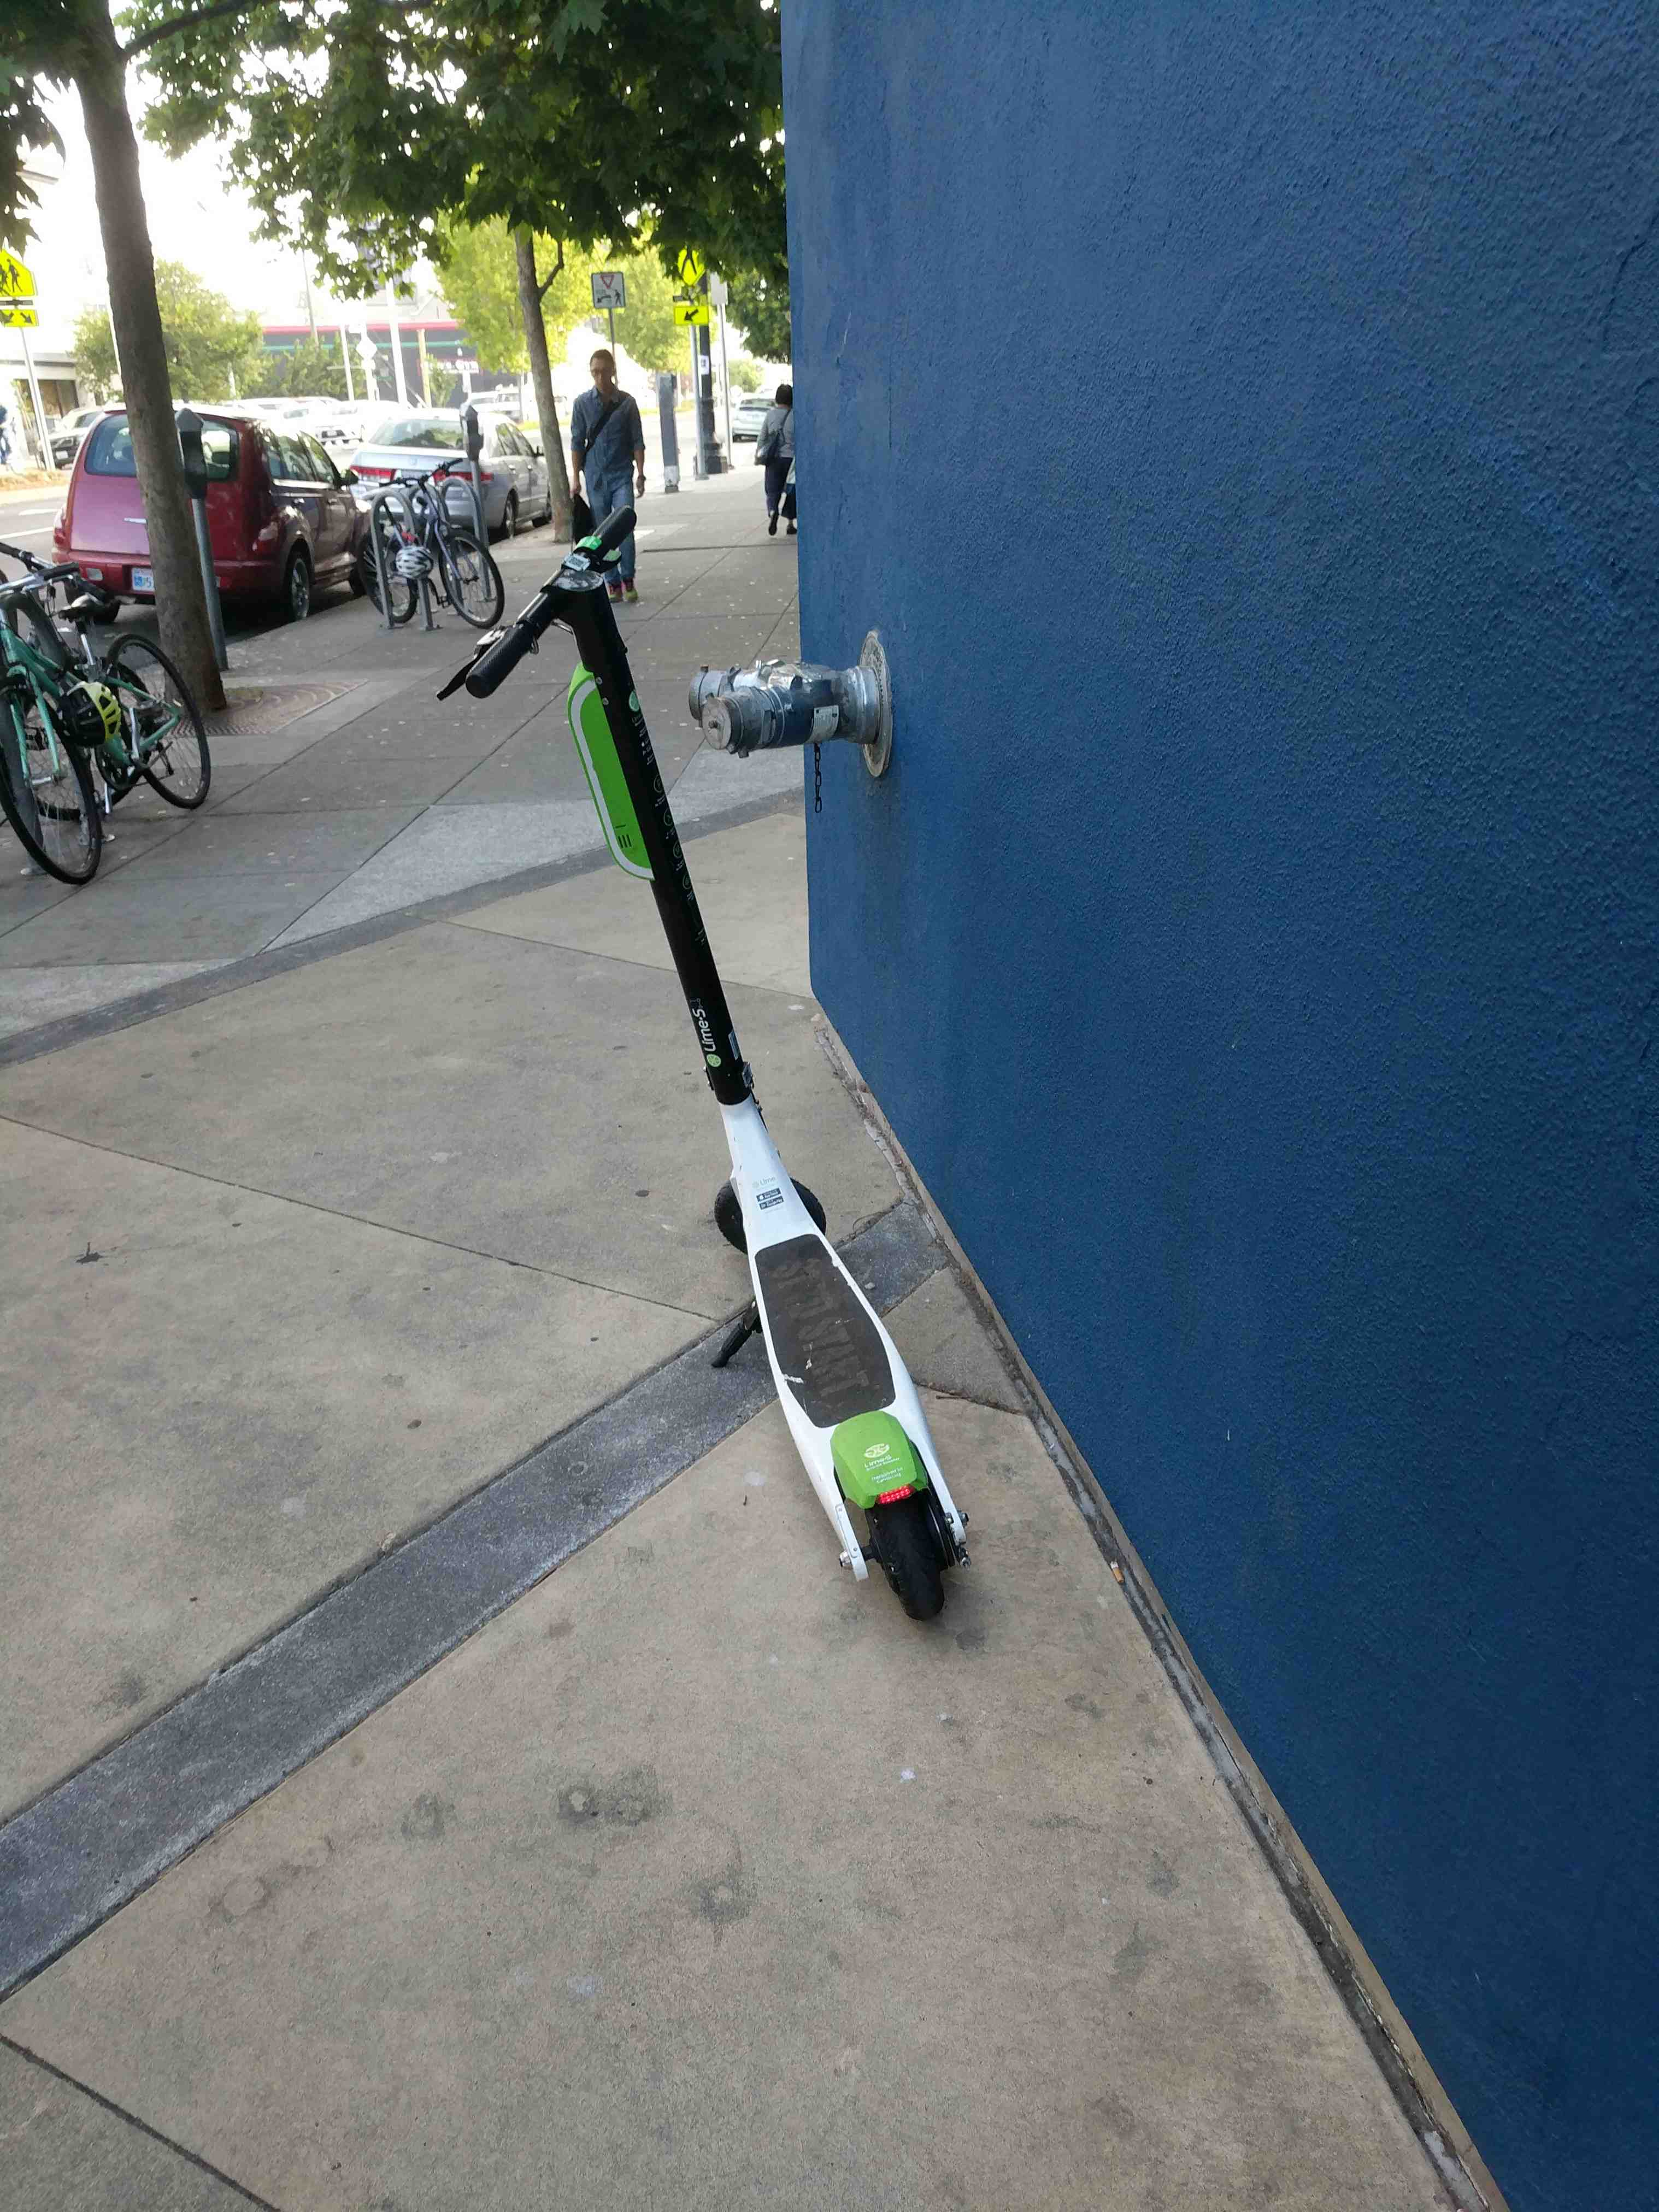scooter: (425, 479, 1018, 1698)
